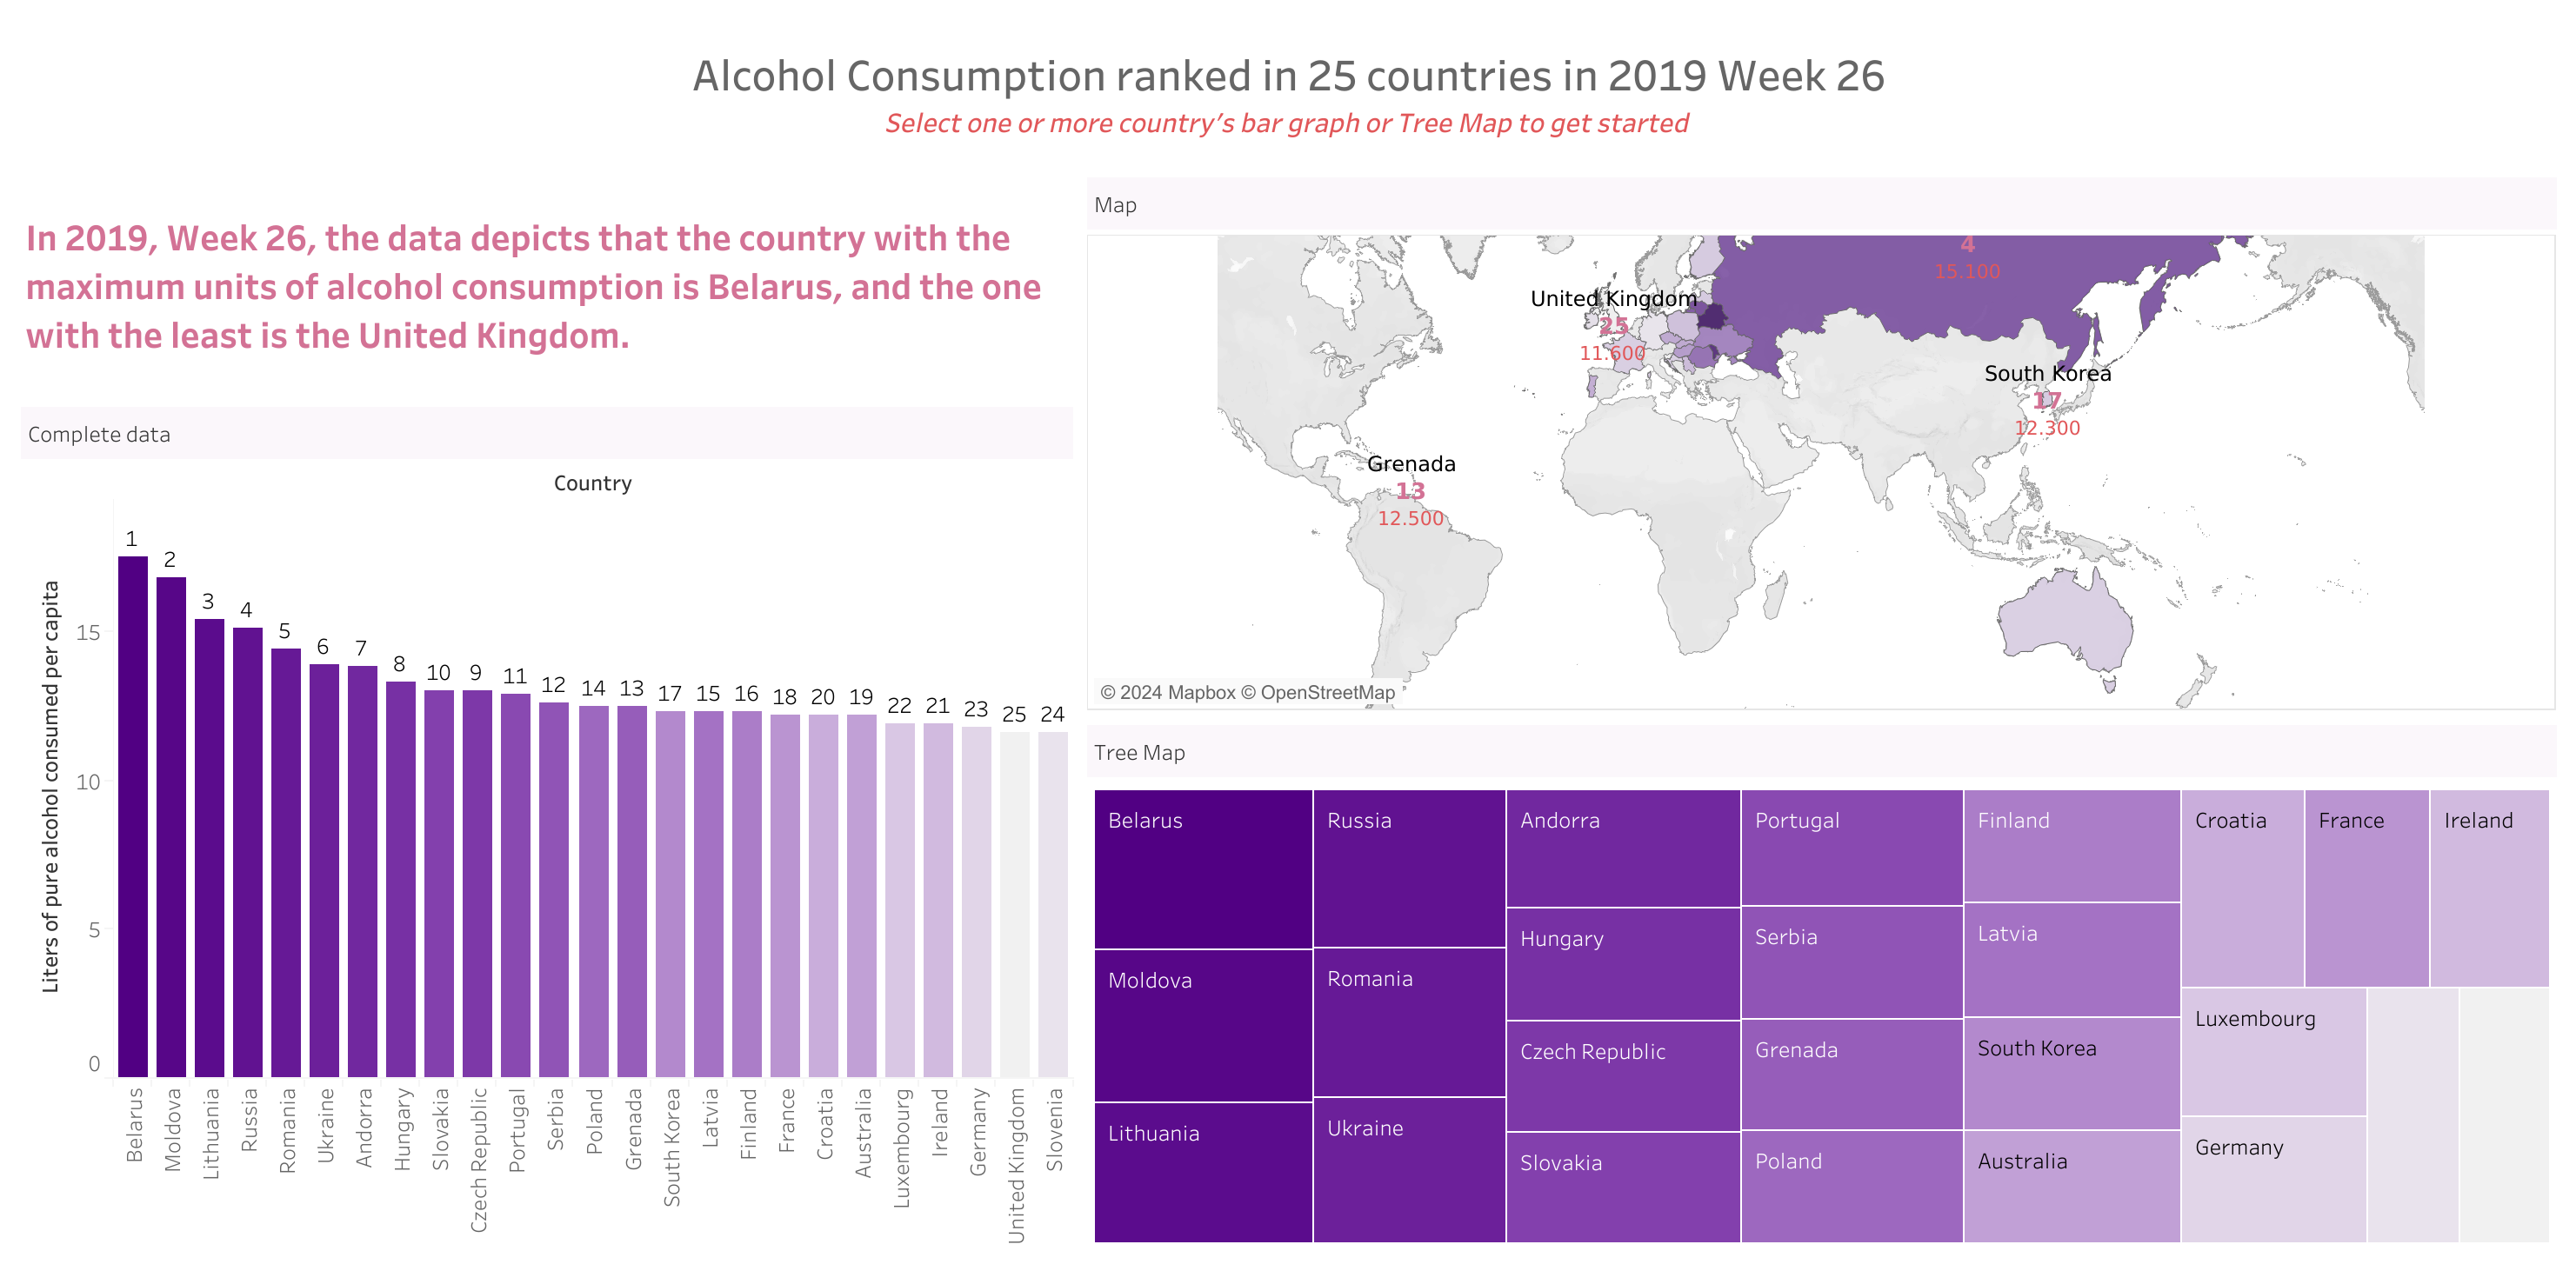

The dashboard page shown, as its layout file describes it:
{"tool":"tableau","page":{"name":"Dashboard 1","canvas":[1000,1000],"units":"permille","ordinal":0},"visuals":[{"type":"text","box":[4.8,9.4,990.3,123.4]},{"type":"text","box":[4.8,132.8,414,181]},{"type":"worksheet","title":"Map","mark":"Automatic","box":[418.8,132.8,576.3,431.3]},{"type":"worksheet","title":"Complete Data","mark":"Automatic","rows":["Liters of pure alcohol consumed per capita"],"cols":["Country"],"box":[4.8,313.8,414,676.9]},{"type":"worksheet","title":"Tree Map","mark":"Automatic","box":[418.8,564,576.3,426.6]}]}

Visuals, with their boxes on the dashboard's canvas, which has no fixed pixel size, in thousandths of its width and height (x1, y1, x2, y2). These are canvas units, not pixel positions in the 2576x1271 screenshot, which may show the page scaled, cropped or inside an application window:
text: x1=5 y1=9 x2=995 y2=133
text: x1=5 y1=133 x2=419 y2=314
"Map" worksheet: x1=419 y1=133 x2=995 y2=564
"Complete Data" worksheet: x1=5 y1=314 x2=419 y2=991
"Tree Map" worksheet: x1=419 y1=564 x2=995 y2=991
